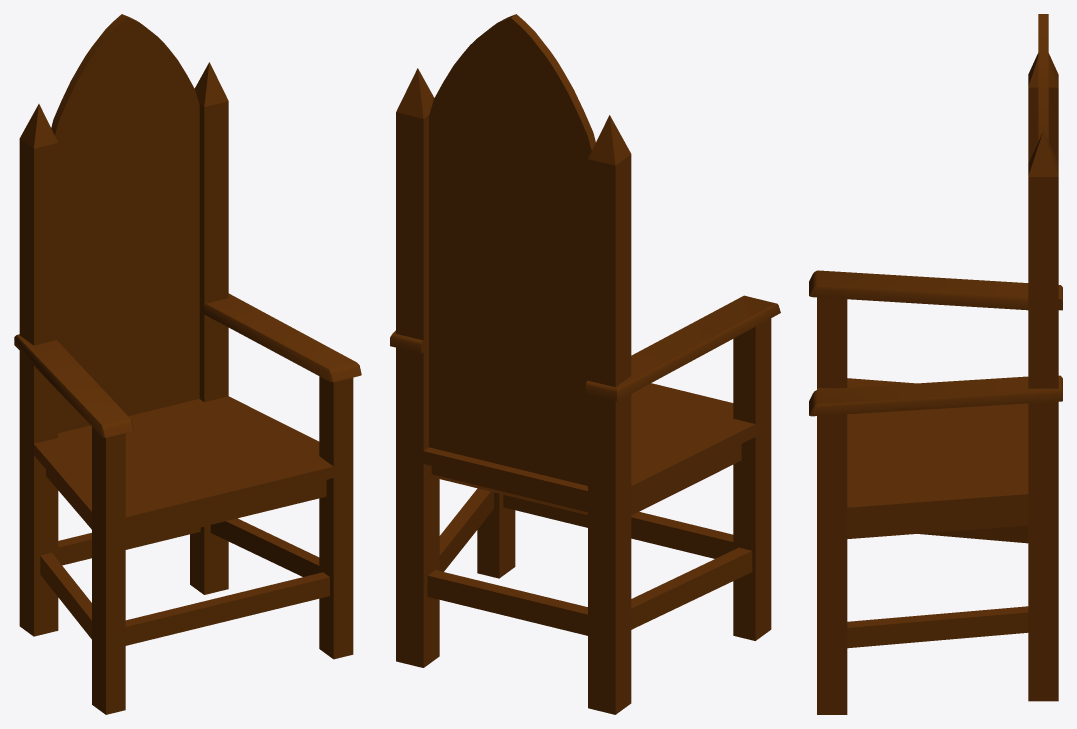
Rendered from chair.FBX.
3 views of the same model, side by side, from view 1: azimuth 30°, elevation 25°; view 2: azimuth 150°, elevation 25°; view 3: azimuth 270°, elevation 25° (orthographic). The views are drawn at different scales.
Visible parts, largest first — view 1: Box001; view 2: Box001; view 3: Box001.
Part boxes in pixels (left/top/right/bottom): Box001: left=14, top=14, right=361, bottom=714; Box001: left=390, top=14, right=780, bottom=714; Box001: left=809, top=14, right=1062, bottom=714.
Bounding box in the file's own units: 99.22 × 217 × 78.36.
